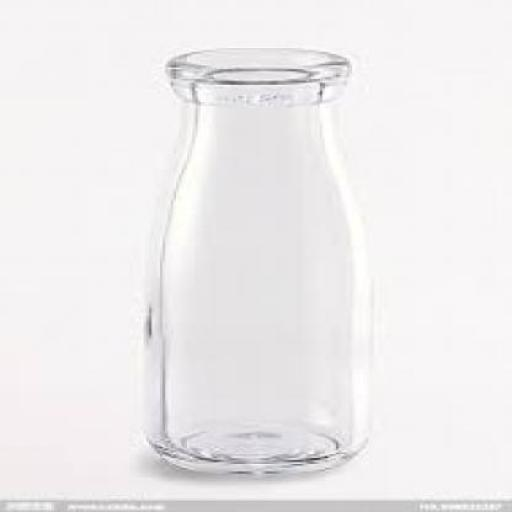glass: (140, 50, 363, 472)
